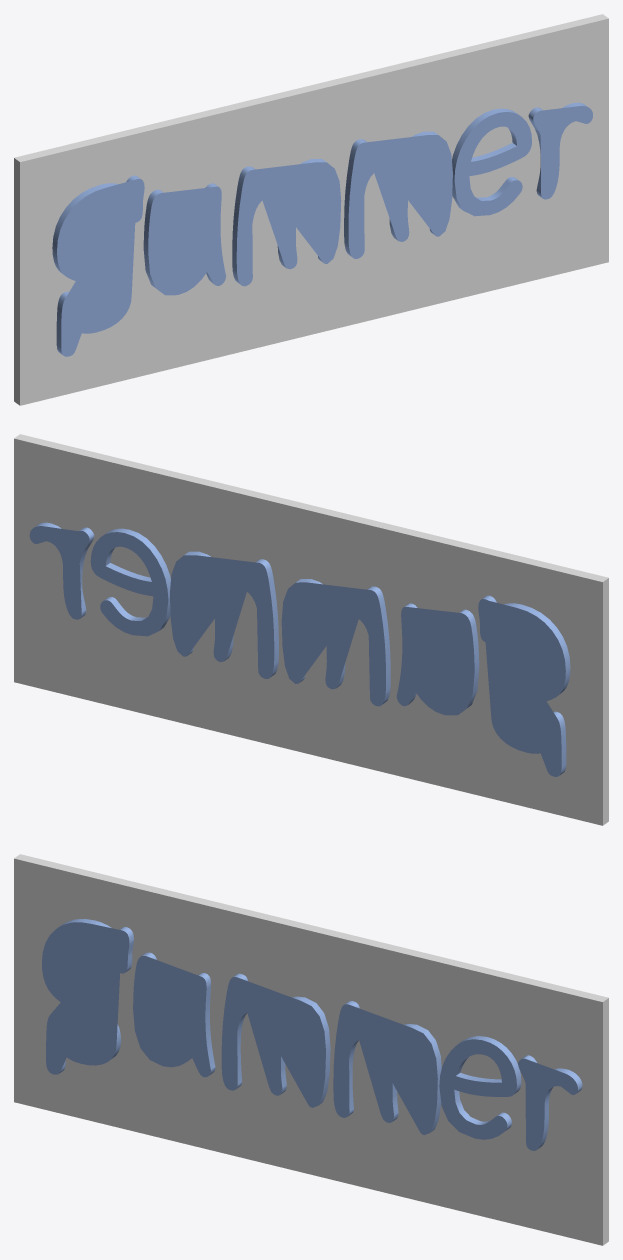
The model's file is summer.fbx.
3 views of the same model, one above another, from view 1: azimuth 30°, elevation 25°; view 2: azimuth 150°, elevation 25°; view 3: azimuth 330°, elevation 25° (orthographic).
Parts seen in each view (by area): view 1: pCube1, typeMesh1; view 2: pCube1, typeMesh1; view 3: pCube1, typeMesh1.
Boxes of the visible parts, box(x1,y1,x2,y2) form: pCube1: box(14, 14, 608, 405); typeMesh1: box(52, 102, 592, 356); pCube1: box(14, 434, 608, 825); typeMesh1: box(29, 522, 570, 776); pCube1: box(14, 854, 608, 1245); typeMesh1: box(42, 919, 582, 1150).
Bounding box in the file's own units: 55.66 × 22.01 × 2.5.
